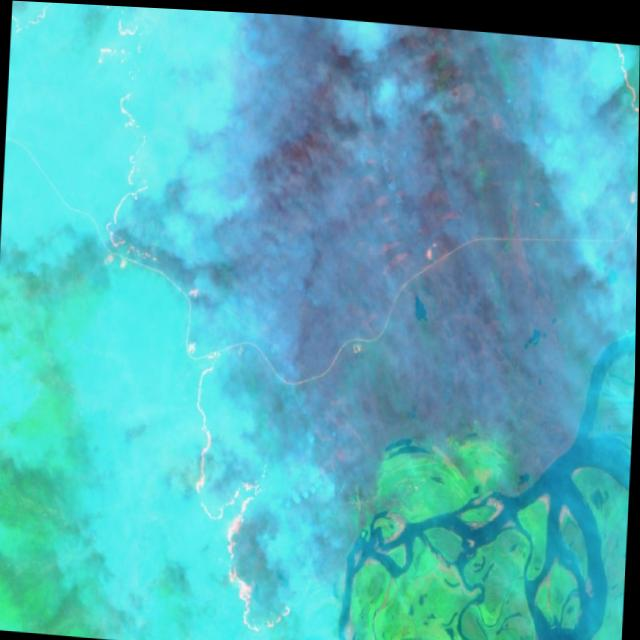fire: (32, 2, 350, 640)
